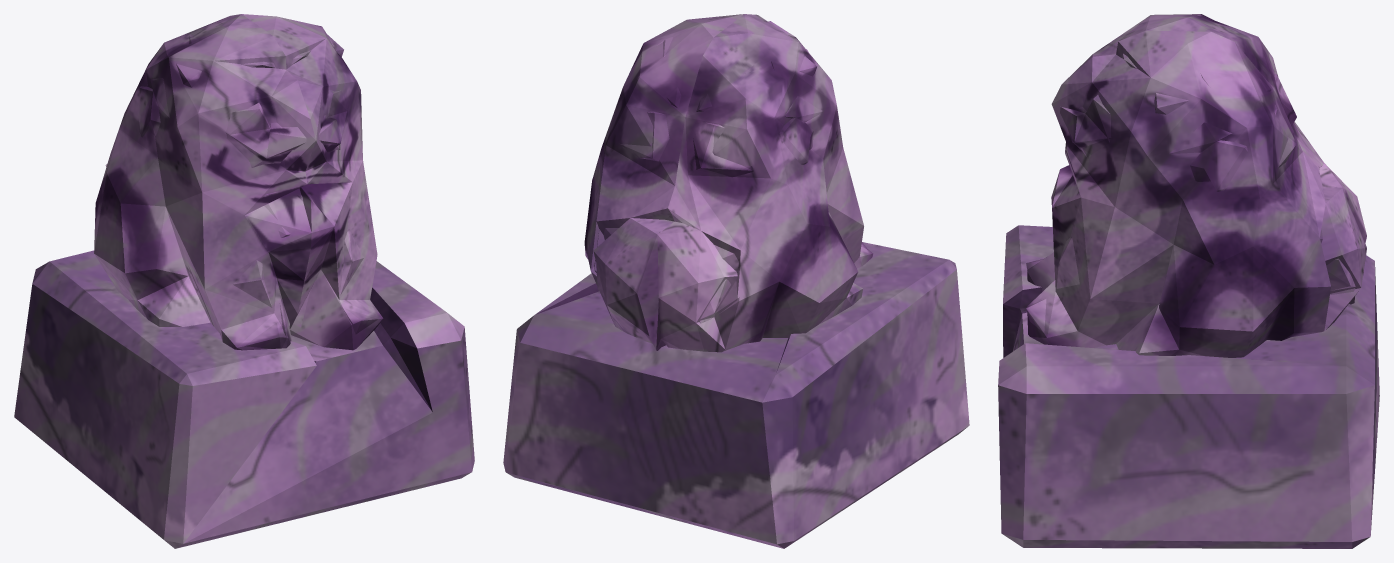
Rendered from Str_Ruins_02_Art.glb.
The picture shows the model from 3 angles, left to right: view 1: azimuth 30°, elevation 25°; view 2: azimuth 150°, elevation 25°; view 3: azimuth 270°, elevation 25°; orthographic projection. The views are drawn at different scales.
Parts seen in each view (by area): view 1: Str_Ruins_02_Art; view 2: Str_Ruins_02_Art; view 3: Str_Ruins_02_Art.
Boxes of the visible parts, <box> form: Str_Ruins_02_Art: <box>14,14,474,548</box>; Str_Ruins_02_Art: <box>503,14,969,548</box>; Str_Ruins_02_Art: <box>998,14,1379,548</box>.
Size of what is drawn, in the model's own units: 1.91 by 2.51 by 1.92.
Materials: 1 (1 with a texture image).
